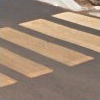crosswalk: (0, 11, 99, 86)
